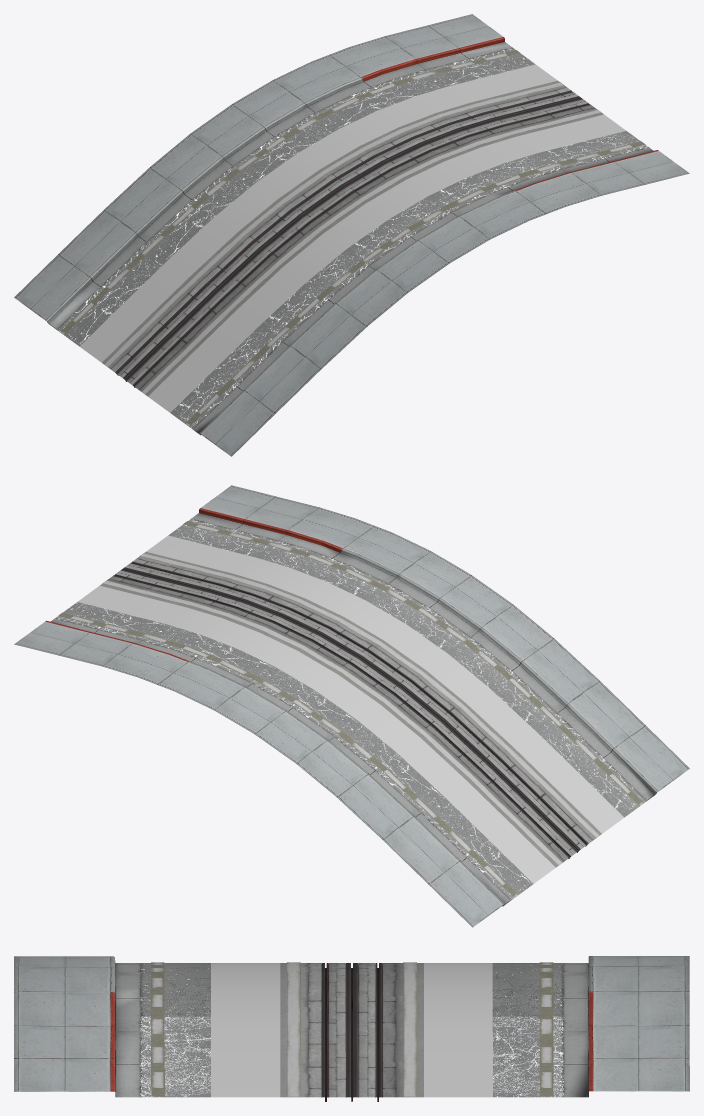
The model's file is RoadRail_Slope.obj.
3 views of the same model, one above another, from view 1: azimuth 30°, elevation 25°; view 2: azimuth 150°, elevation 25°; view 3: azimuth 270°, elevation 25° (orthographic). The views are drawn at different scales.
Parts seen in each view (by area): view 1: RoadRail_Slope; view 2: RoadRail_Slope; view 3: RoadRail_Slope.
Part boxes in pixels (<box>): RoadRail_Slope: <box>14,14,689,456</box>; RoadRail_Slope: <box>14,485,689,927</box>; RoadRail_Slope: <box>14,956,689,1101</box>.
Size of the model in its own units: 24.32 by 8.98 by 20.
